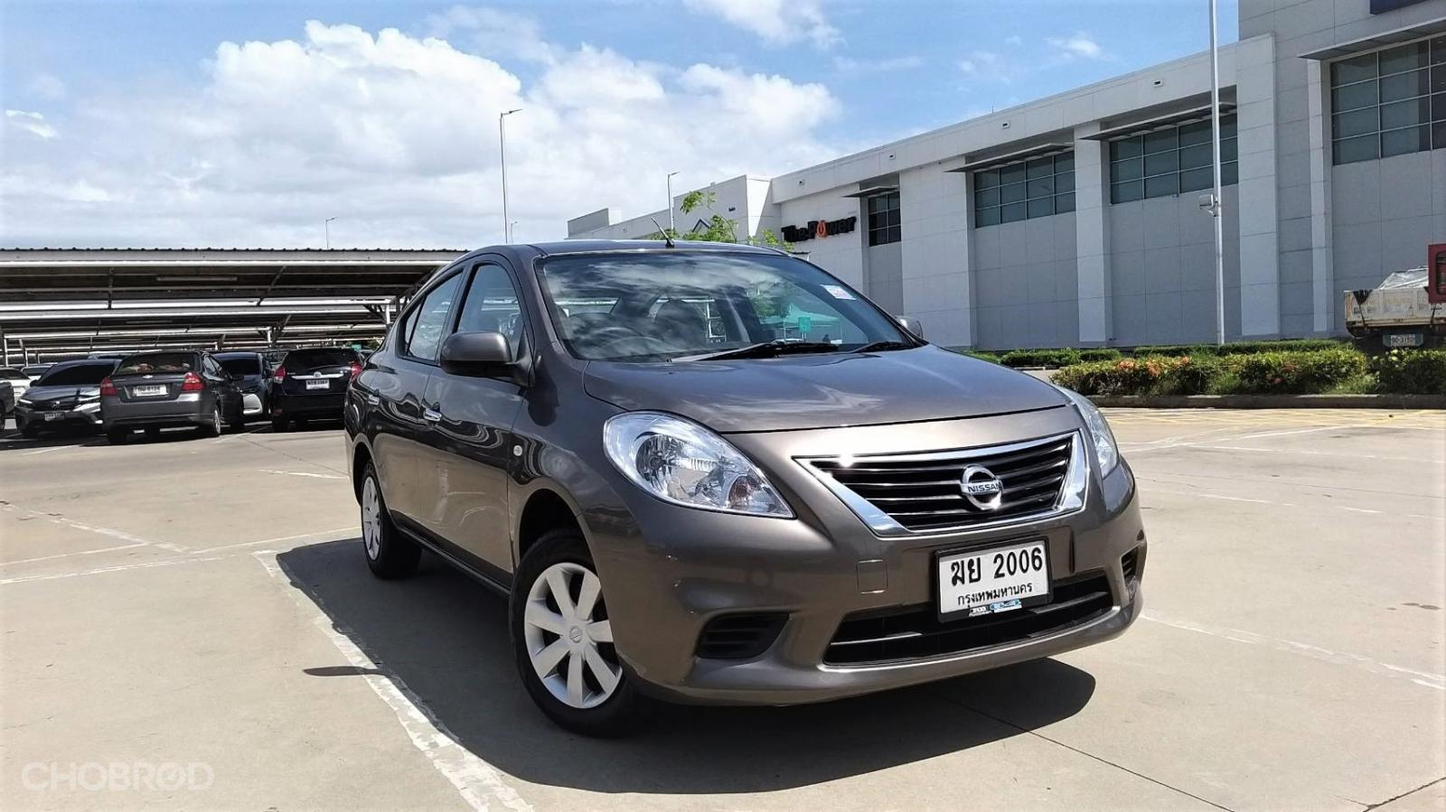license-plate: (921, 530, 1060, 636)
